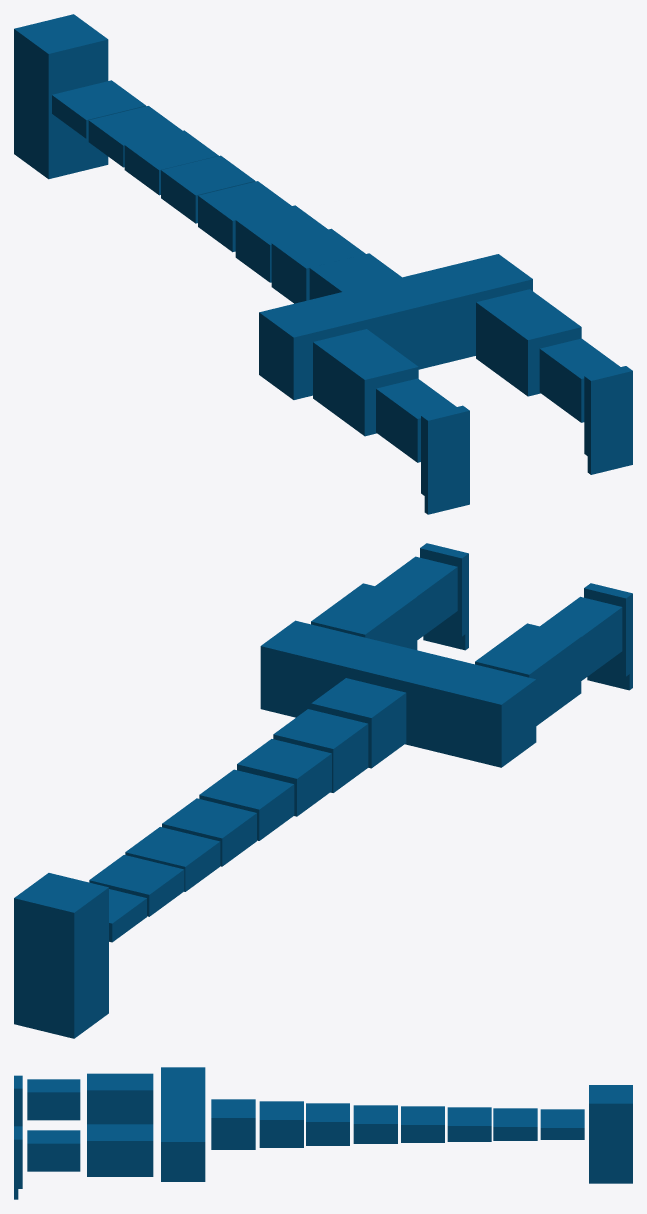
The model's file is He_didnt_Survive_02.fbx.
3 renders of one model, top to bottom at view 1: azimuth 30°, elevation 25°; view 2: azimuth 150°, elevation 25°; view 3: azimuth 270°, elevation 25°, orthographic. The views are drawn at different scales.
Visible parts, largest first — view 1: main, Nek8, Leg_R (×2), Leg_L, Feet_L, Feet_R, Nek1, Leg_L1, Nek2, Nek3, Nek4, Nek5 (+3 smaller); view 2: main, Nek8, Leg_R (×2), Leg_L, Nek, Nek1, Nek2, Leg_L1, Nek3, Nek4, Nek5, Nek6 (+3 smaller); view 3: Leg_R (×2), main, Nek8, Leg_L, Nek, Leg_L1, Nek1, Nek2, Nek3, Nek4, Nek5, Nek6 (+3 smaller).
Boxes of the visible parts, box(x1,y1,x2,y2) form: main: box(259, 254, 532, 399); Nek8: box(14, 14, 108, 179); Leg_R (×2): box(476, 289, 619, 422); Leg_L: box(313, 329, 418, 436); Feet_L: box(421, 405, 469, 514); Feet_R: box(584, 366, 632, 474); Nek1: box(271, 228, 365, 303); Leg_L1: box(376, 378, 456, 462); Nek2: box(235, 205, 327, 282); Nek3: box(198, 181, 291, 252); Nek4: box(161, 155, 255, 223); Nek5: box(124, 130, 218, 195); main: box(260, 620, 536, 767); Nek8: box(14, 873, 108, 1038); Leg_R (×2): box(311, 556, 457, 650); Leg_L: box(475, 623, 581, 725); Nek: box(311, 678, 406, 768); Nek1: box(273, 709, 368, 792); Nek2: box(237, 739, 331, 816); Leg_L1: box(540, 596, 622, 680); Nek3: box(199, 769, 294, 840); Nek4: box(162, 798, 256, 866); Nek5: box(125, 827, 220, 891); Nek6: box(89, 855, 184, 916); Leg_R (×2): box(27, 1124, 153, 1176); main: box(161, 1067, 205, 1181); Nek8: box(589, 1085, 632, 1183); Leg_L: box(87, 1073, 153, 1124); Nek: box(211, 1099, 255, 1149); Leg_L1: box(27, 1079, 80, 1120); Nek1: box(259, 1101, 303, 1147); Nek2: box(306, 1103, 349, 1145); Nek3: box(353, 1105, 397, 1143); Nek4: box(401, 1106, 444, 1142); Nek5: box(447, 1107, 491, 1141); Nek6: box(493, 1108, 537, 1140).
Size of the model in its own units: 4 by 2 by 14.02.
